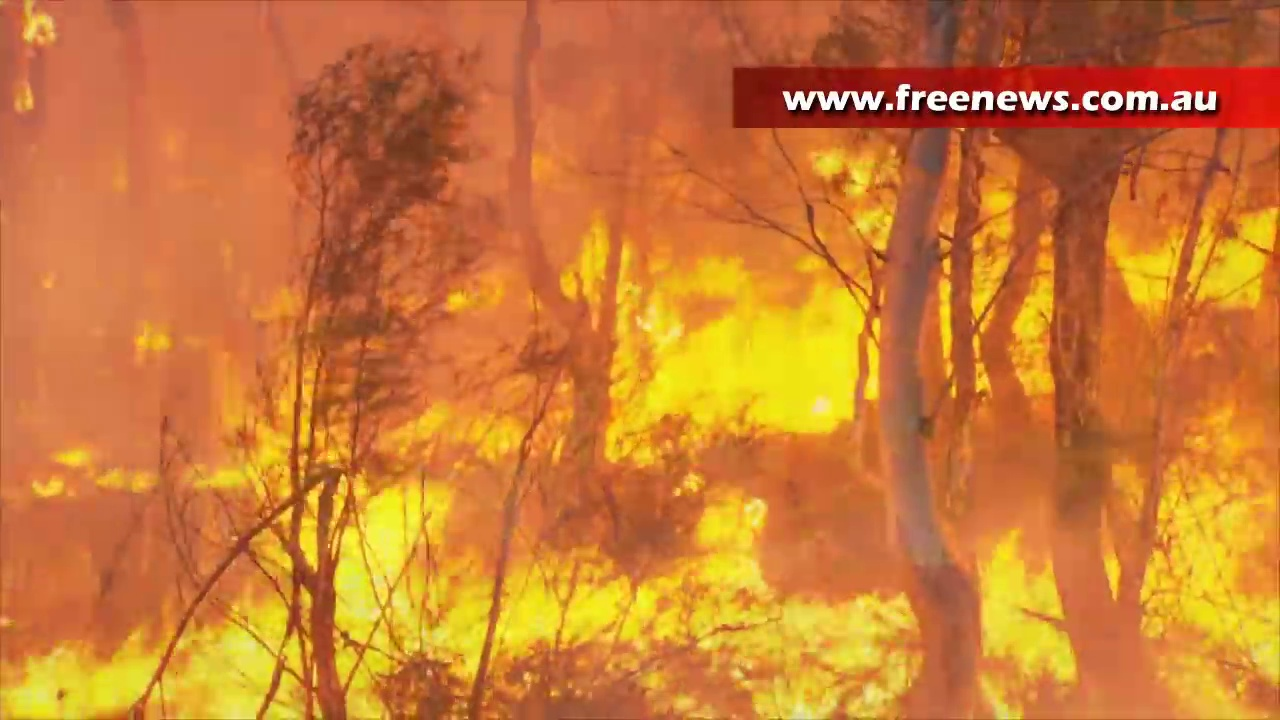fire: (1, 491, 920, 720), (1140, 428, 1280, 720), (636, 271, 861, 426), (1112, 207, 1277, 309), (974, 544, 1074, 692), (973, 213, 1051, 394), (813, 140, 895, 237), (57, 450, 98, 474)
